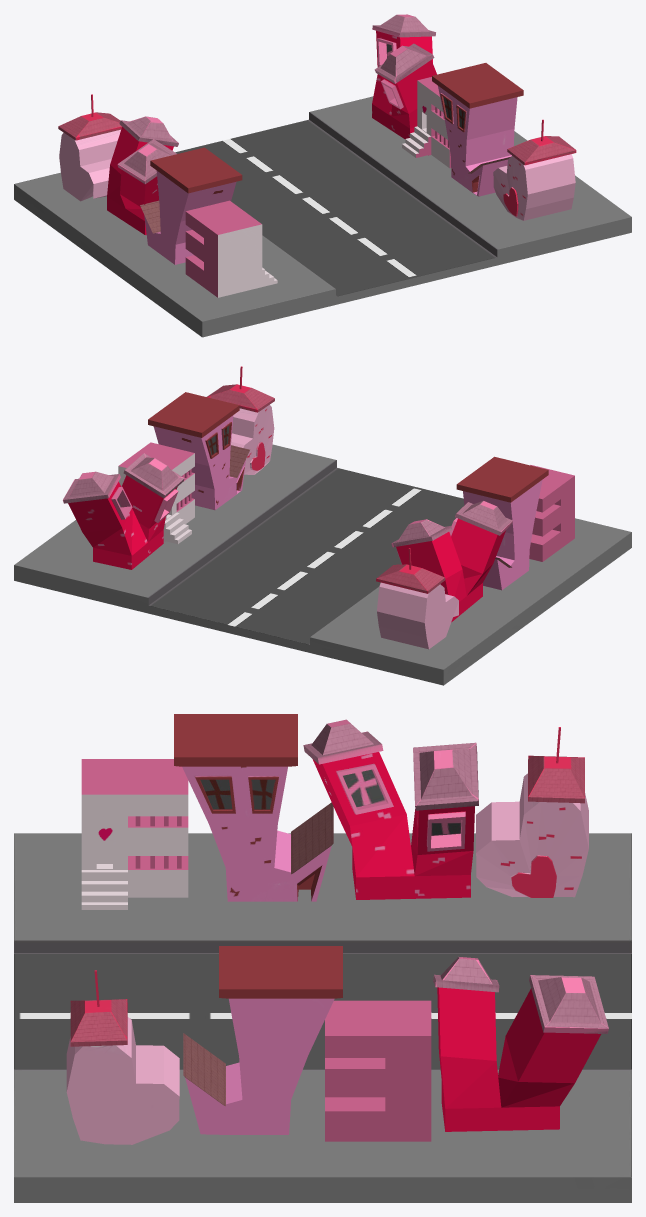
The model's file is town2.fbx.
3 views of the same model, one above another, from view 1: azimuth 30°, elevation 25°; view 2: azimuth 150°, elevation 25°; view 3: azimuth 270°, elevation 25° (orthographic). The views are drawn at different scales.
Visible parts, largest first — view 1: polySurface13; view 2: polySurface13; view 3: polySurface13.
Part boxes in pixels (box(x1,y1,x2,y2)): polySurface13: box(14, 14, 631, 337); polySurface13: box(14, 366, 631, 685); polySurface13: box(14, 714, 631, 1202).
Size of the model in its own units: 2645 by 647 by 2008.
